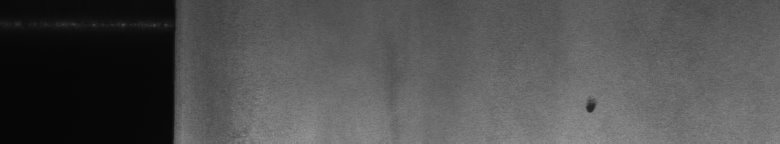fi: (580, 92, 604, 120)
